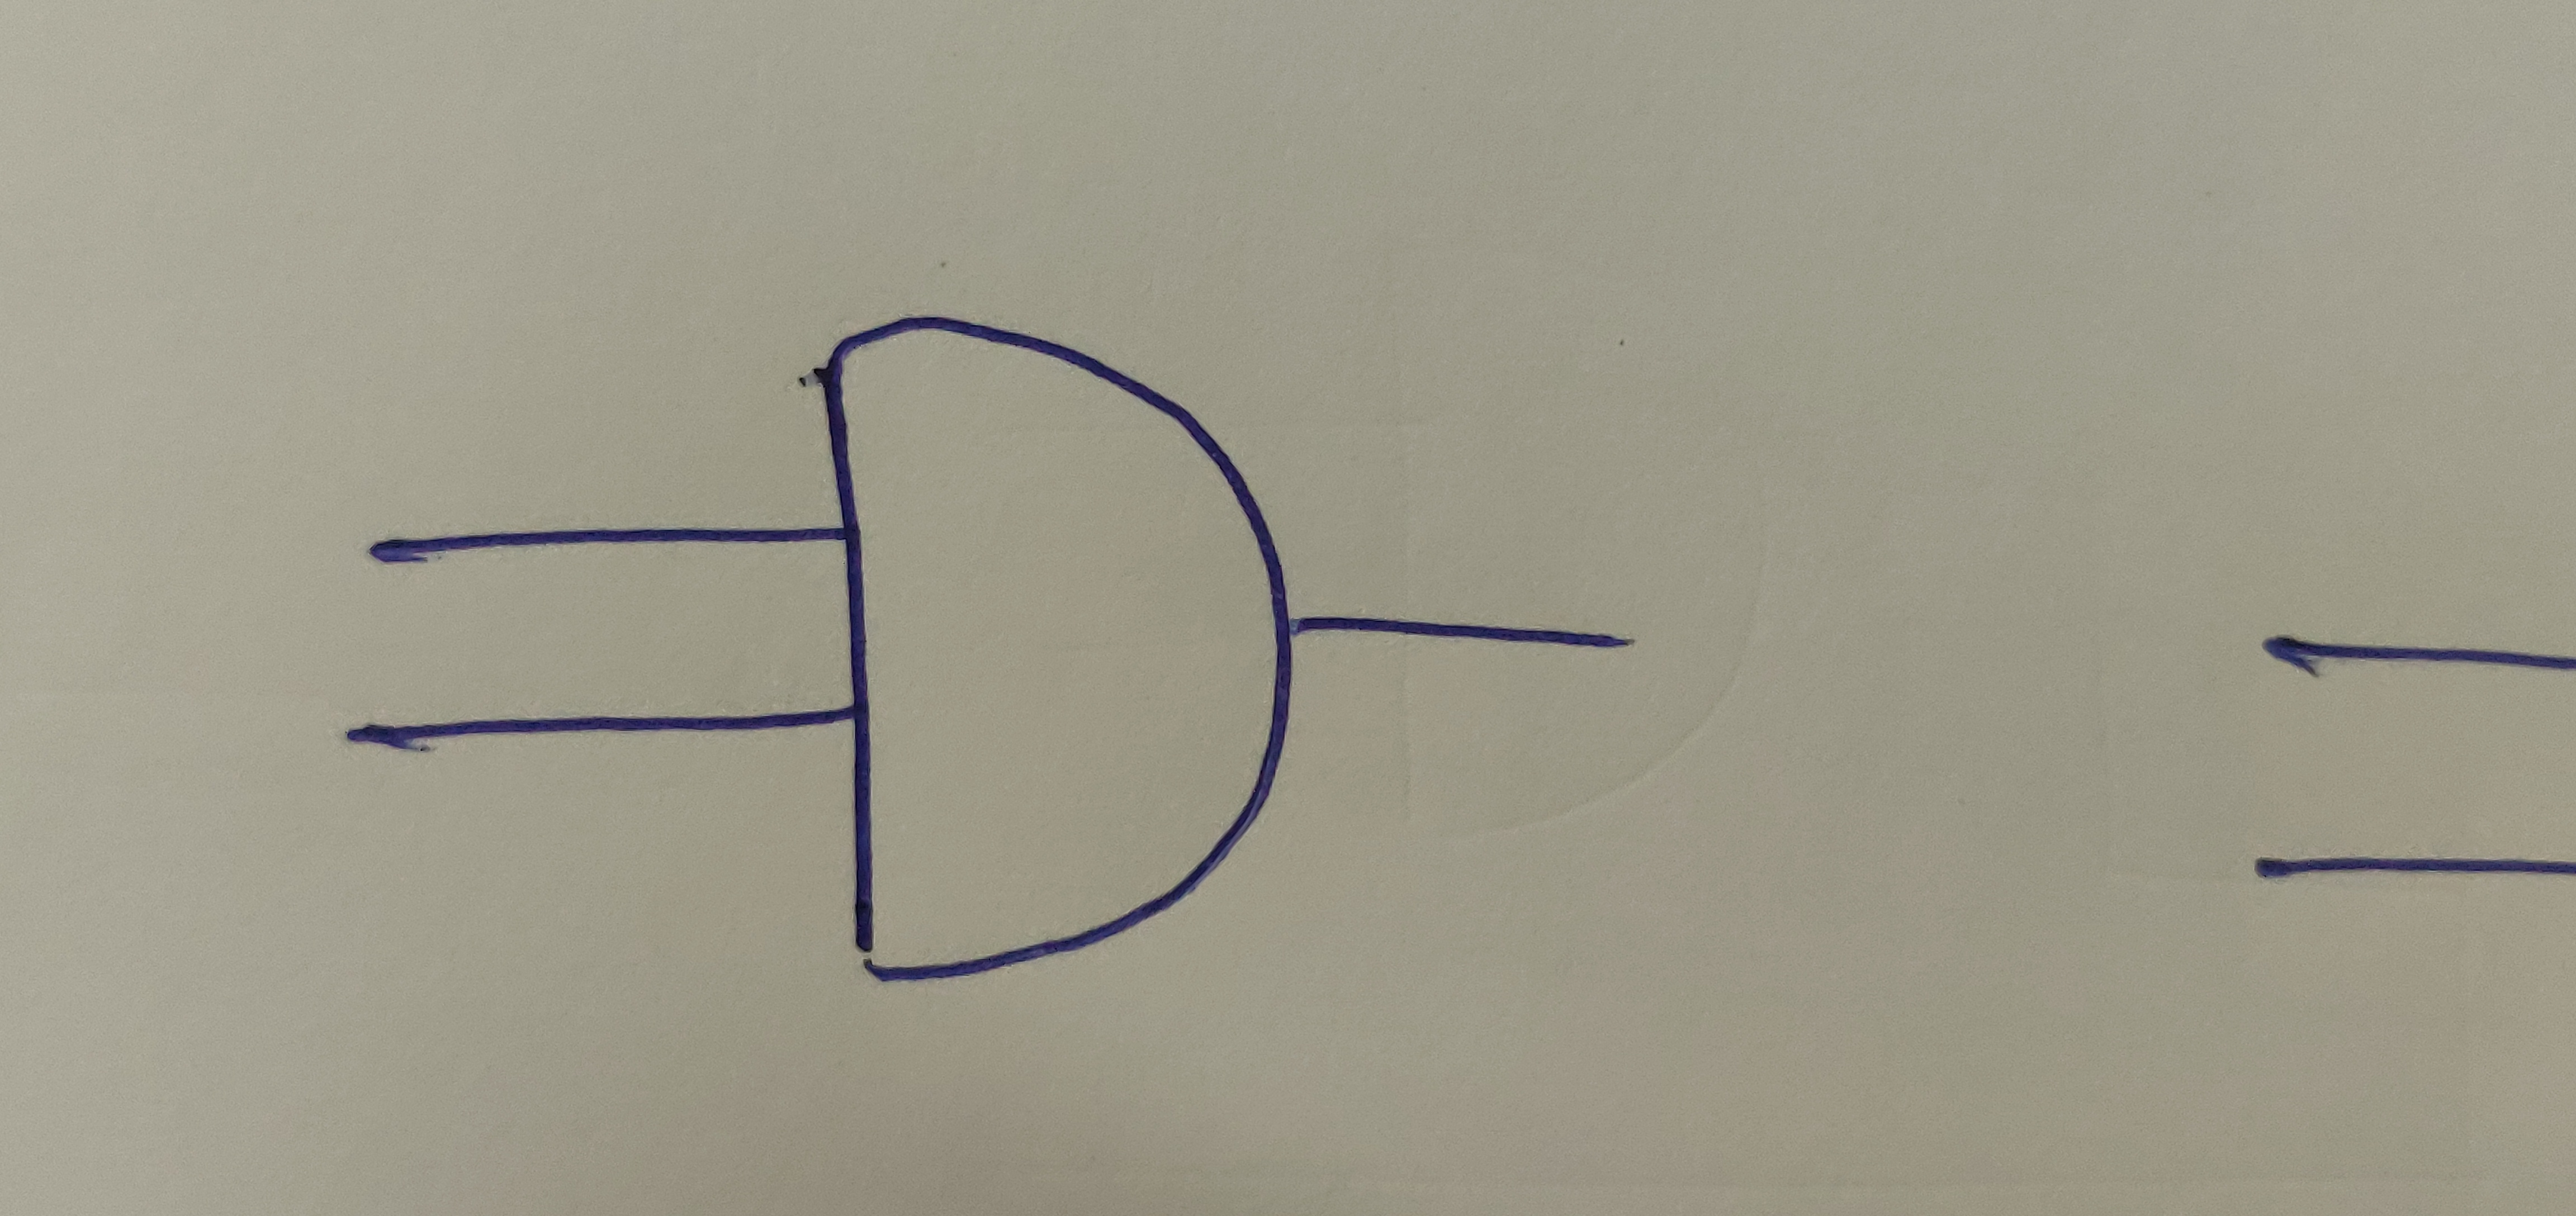and: (808, 314, 1303, 986)
